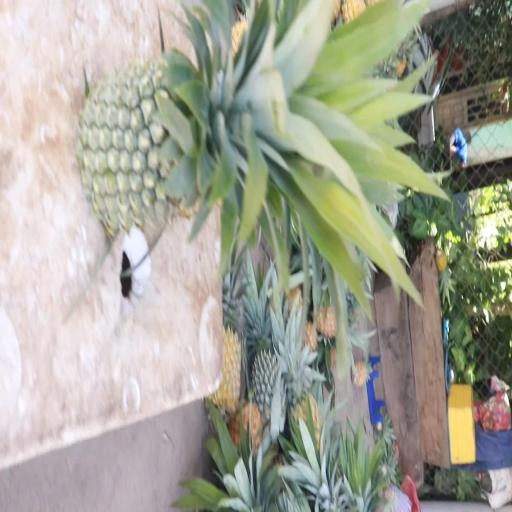------------------------------: (87, 38, 362, 234)
Pineapple - v8 v1: (280, 331, 331, 461), (208, 288, 252, 422)
